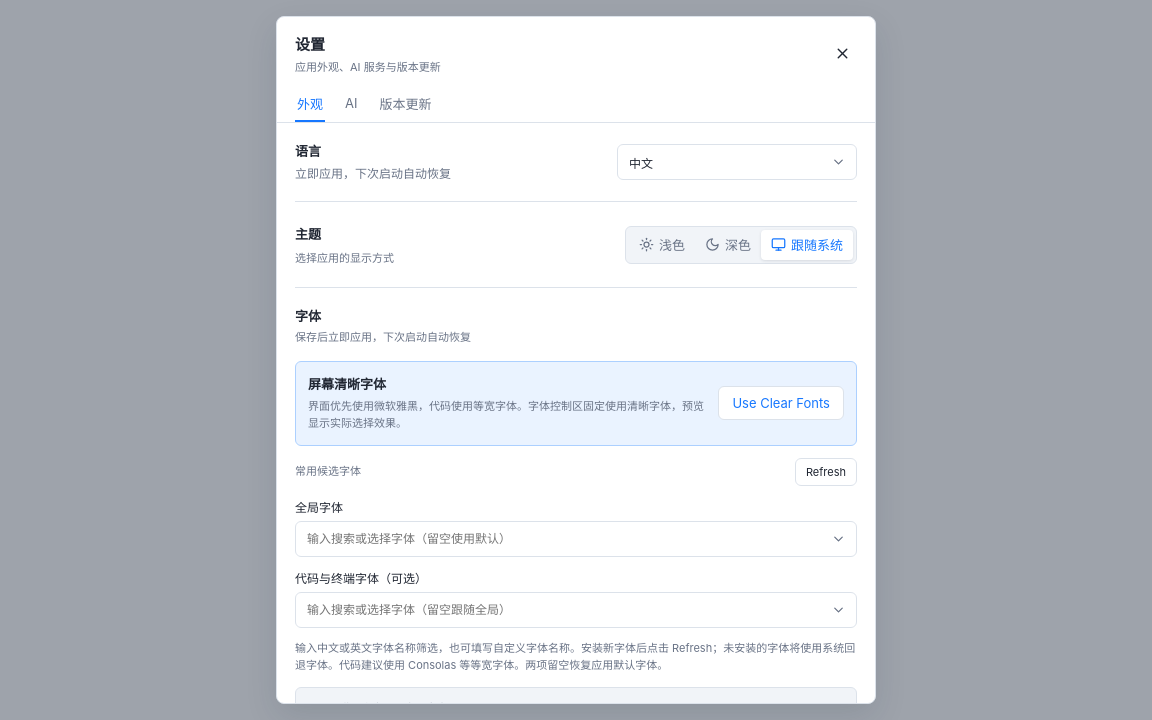
Test: settings dialog › switches between appearance and AI settings
Expected: the button with aria-label "使用系统主题" is shown, 761,230 -> 853,260
Click the button with aria-label "AI 设置" at point(351, 104), box 343,86 -> 360,122
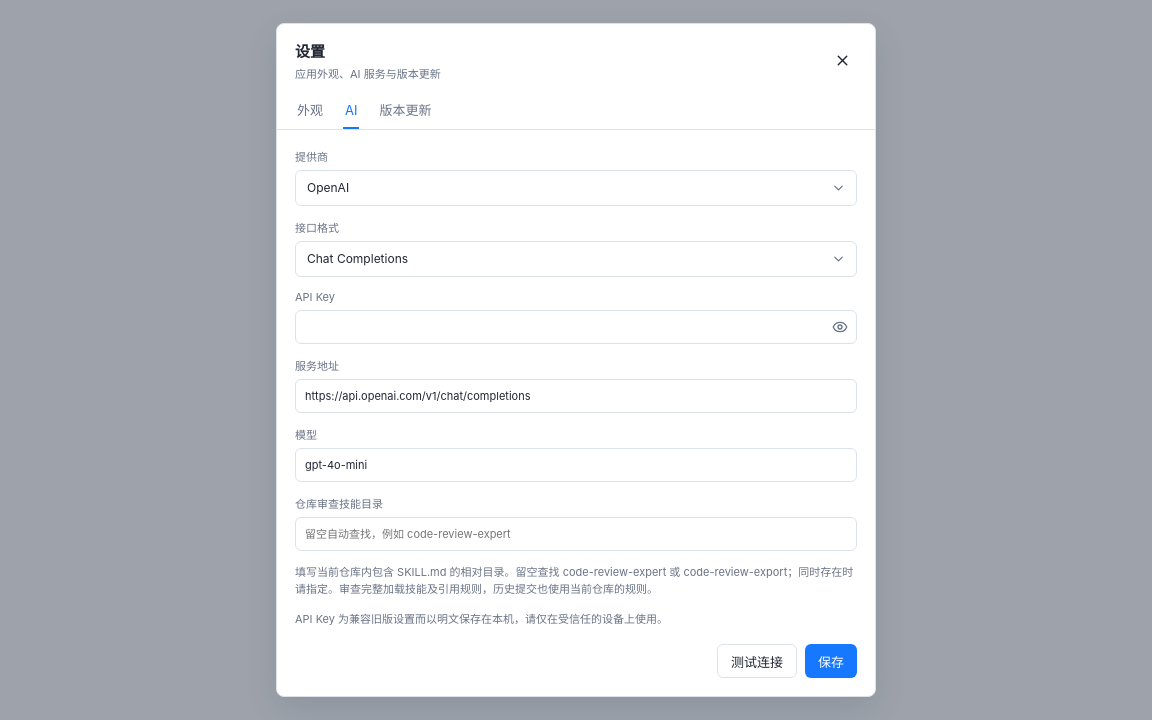
Now the dropdown named "AI 提供商" is shown, box 295,170 -> 857,206
Click the button with aria-label "外观设置" at point(310, 111), box 295,93 -> 325,129
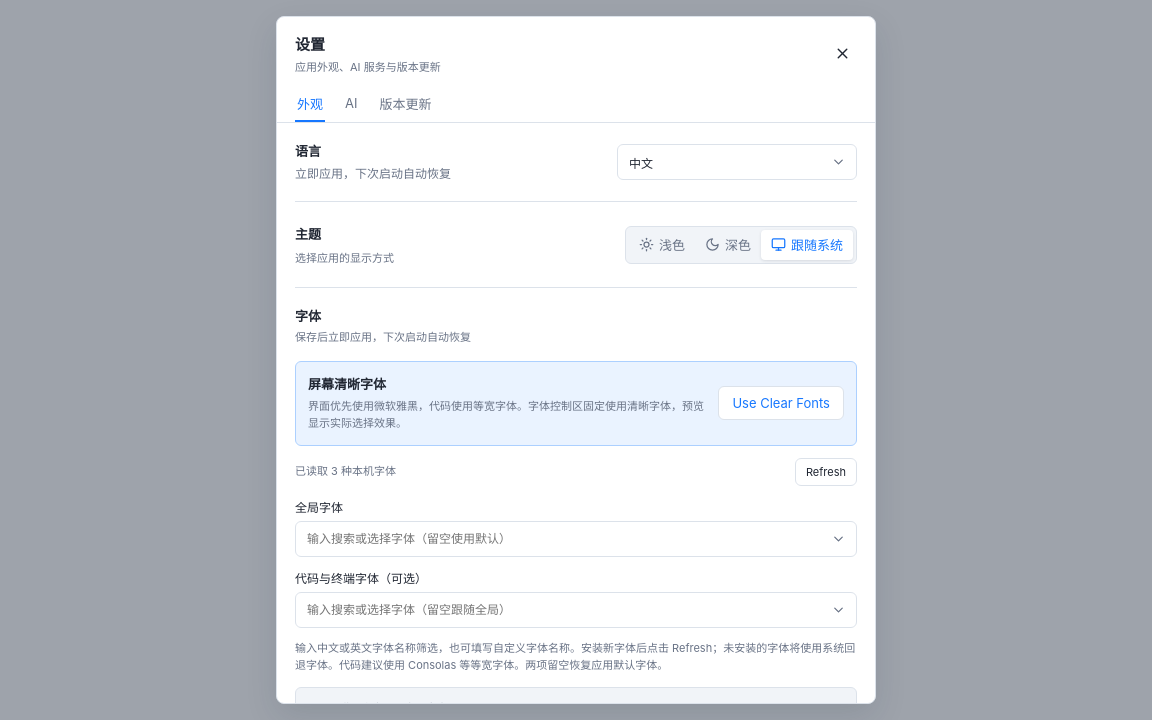
Now the button with aria-label "使用系统主题" is shown, box 761,230 -> 853,260
